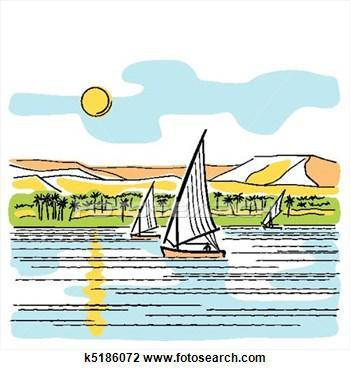boat: (155, 124, 228, 257), (126, 178, 161, 241), (259, 188, 285, 229)
